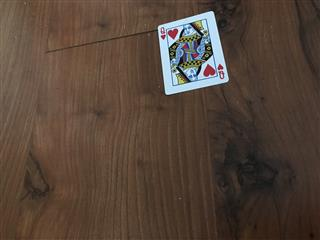QueenOfHearts: (157, 10, 230, 95)
